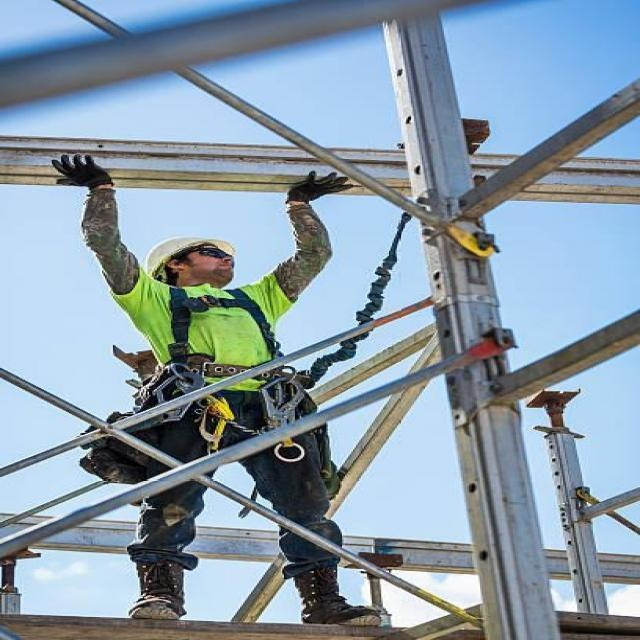Arnes_seguridad: (145, 259, 301, 464)
